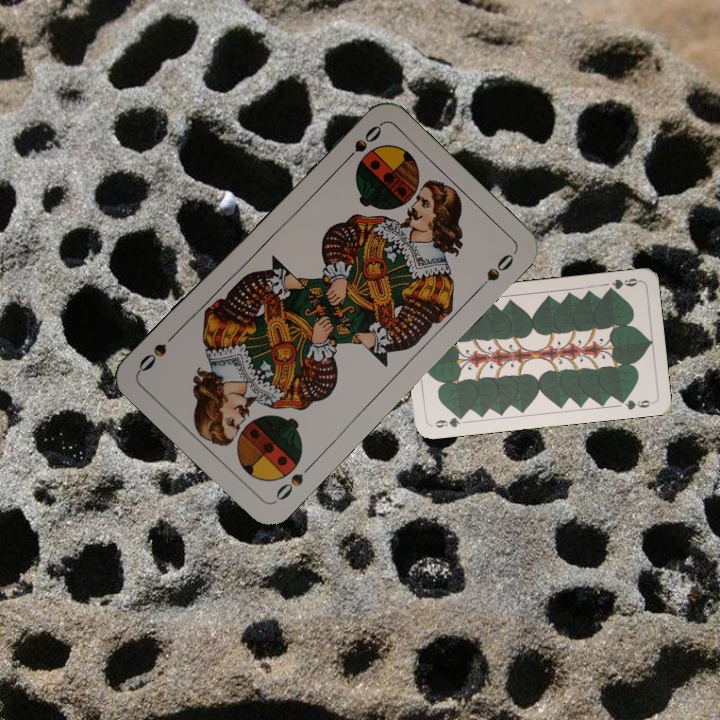G9: (603, 274, 643, 295), (431, 411, 467, 430)
SO: (338, 121, 385, 168), (271, 459, 316, 505)
